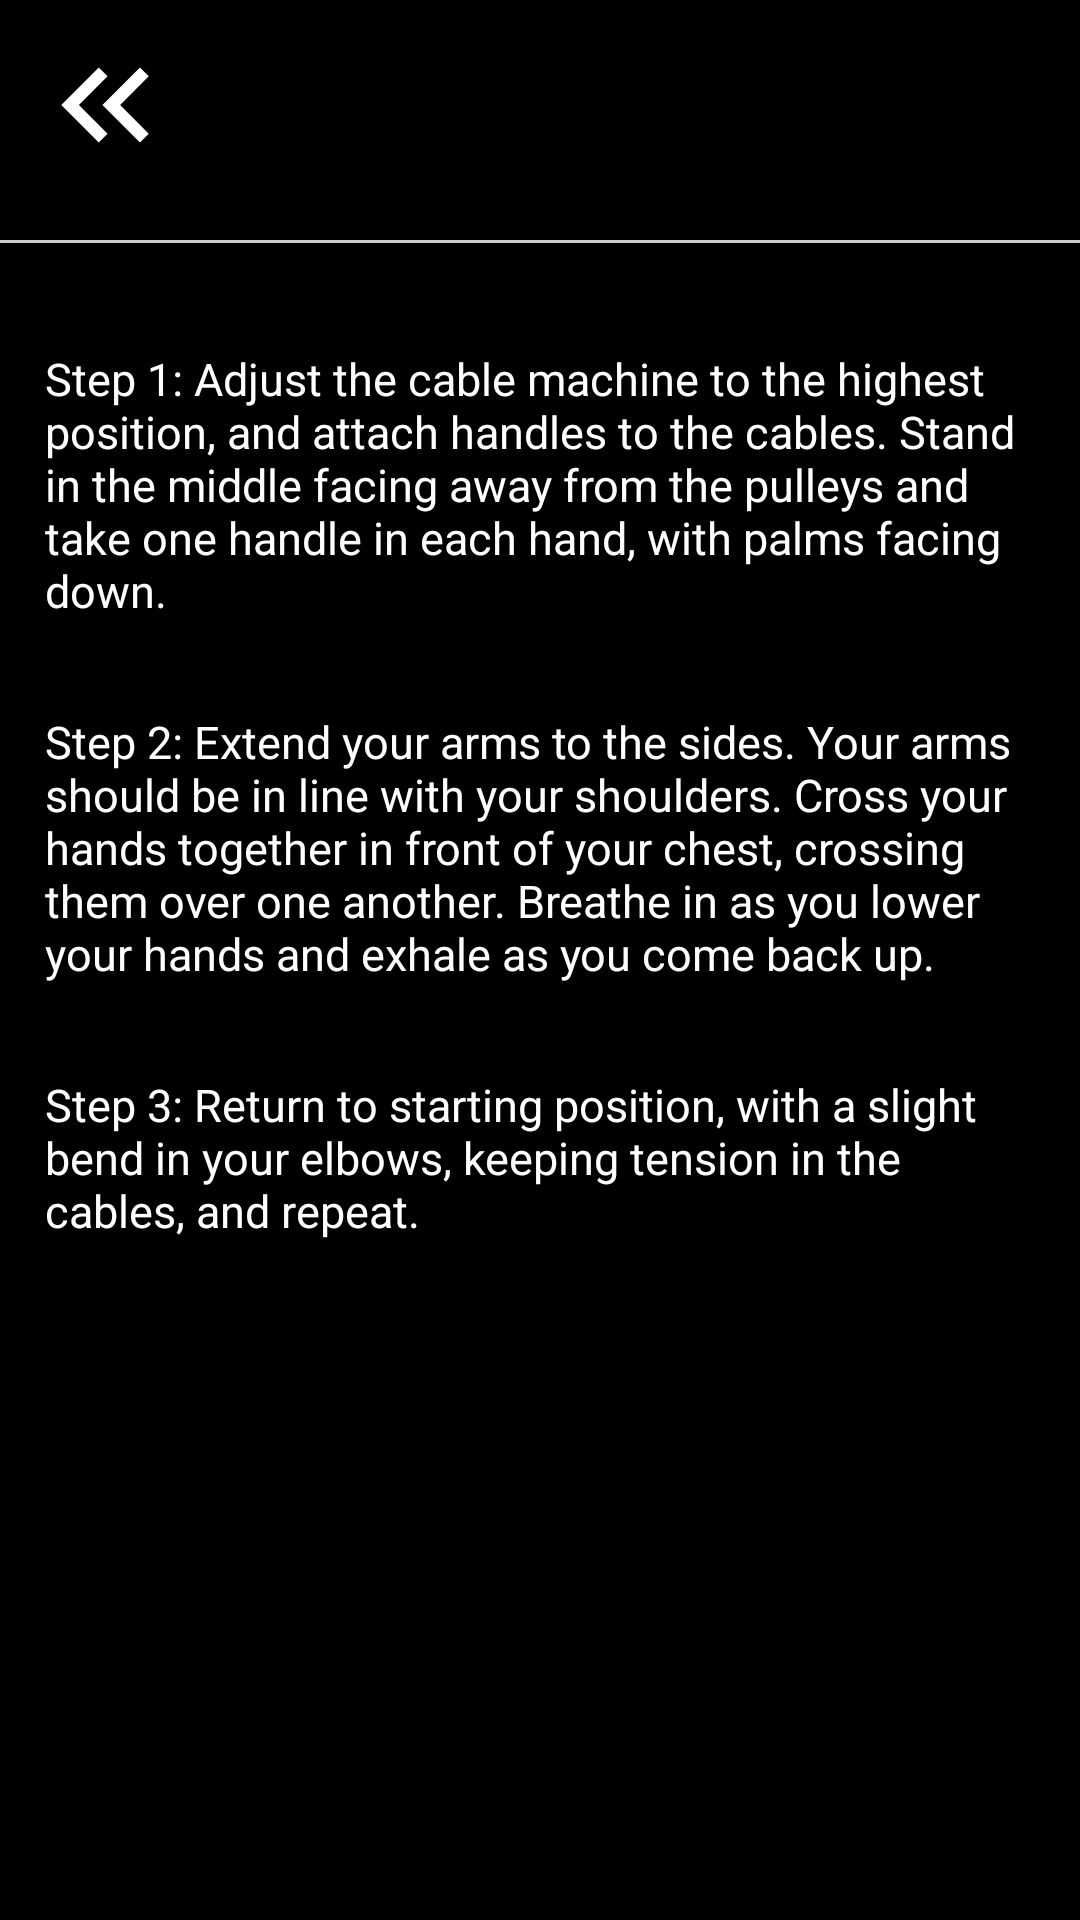

Screen size 1080*1920. Icon name, then its box in pixels as detection(x1, y1, x2, y2):
keyboard double arrow left: detection(61, 67, 149, 143)
